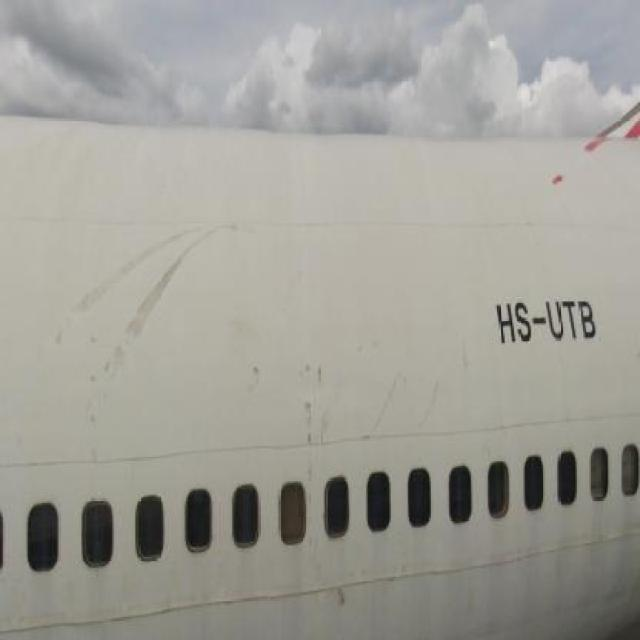Scartch: (294, 343, 338, 475), (332, 574, 353, 618)
